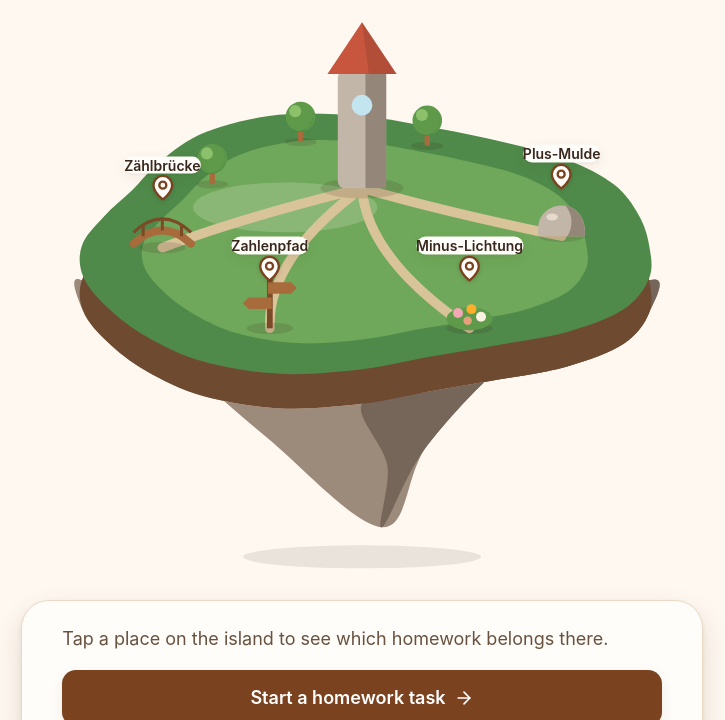
it: IslandView › names every place and shows which homework belongs to the one tapped
Expected: the text "Tap a place on the island" is shown, [62,628,608,649]
Click the button "Zählbrücke" at (162,179), box [124,156,200,202]
(page scrolled)
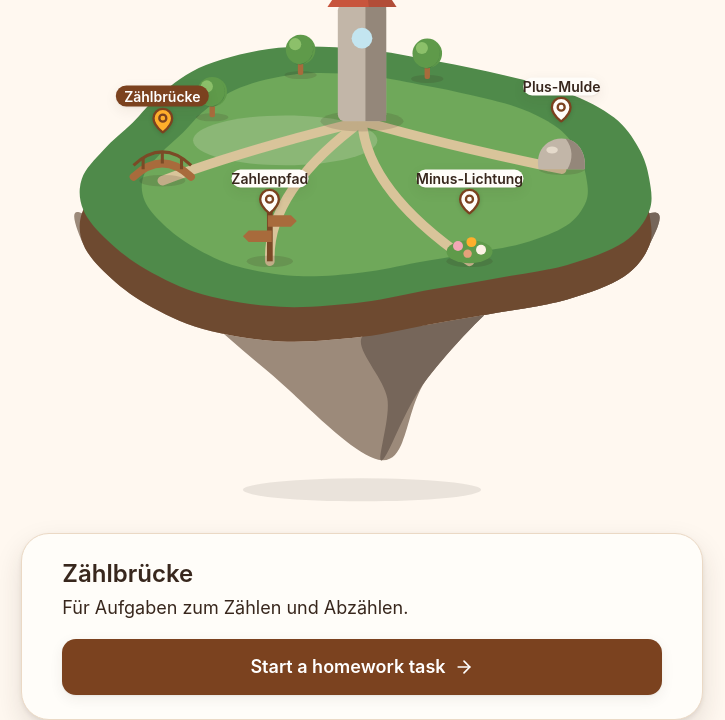
Result: the heading "Zählbrücke" is shown at [62,559,193,588]
Result: the text "Für Aufgaben zum Zählen und Abzählen." is shown at [62,597,408,618]
